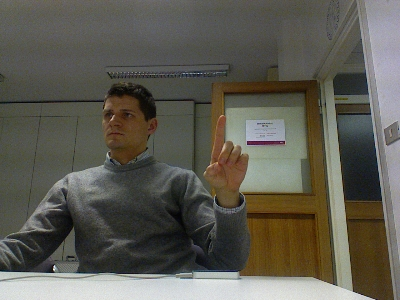食指: (200, 113, 249, 194)
